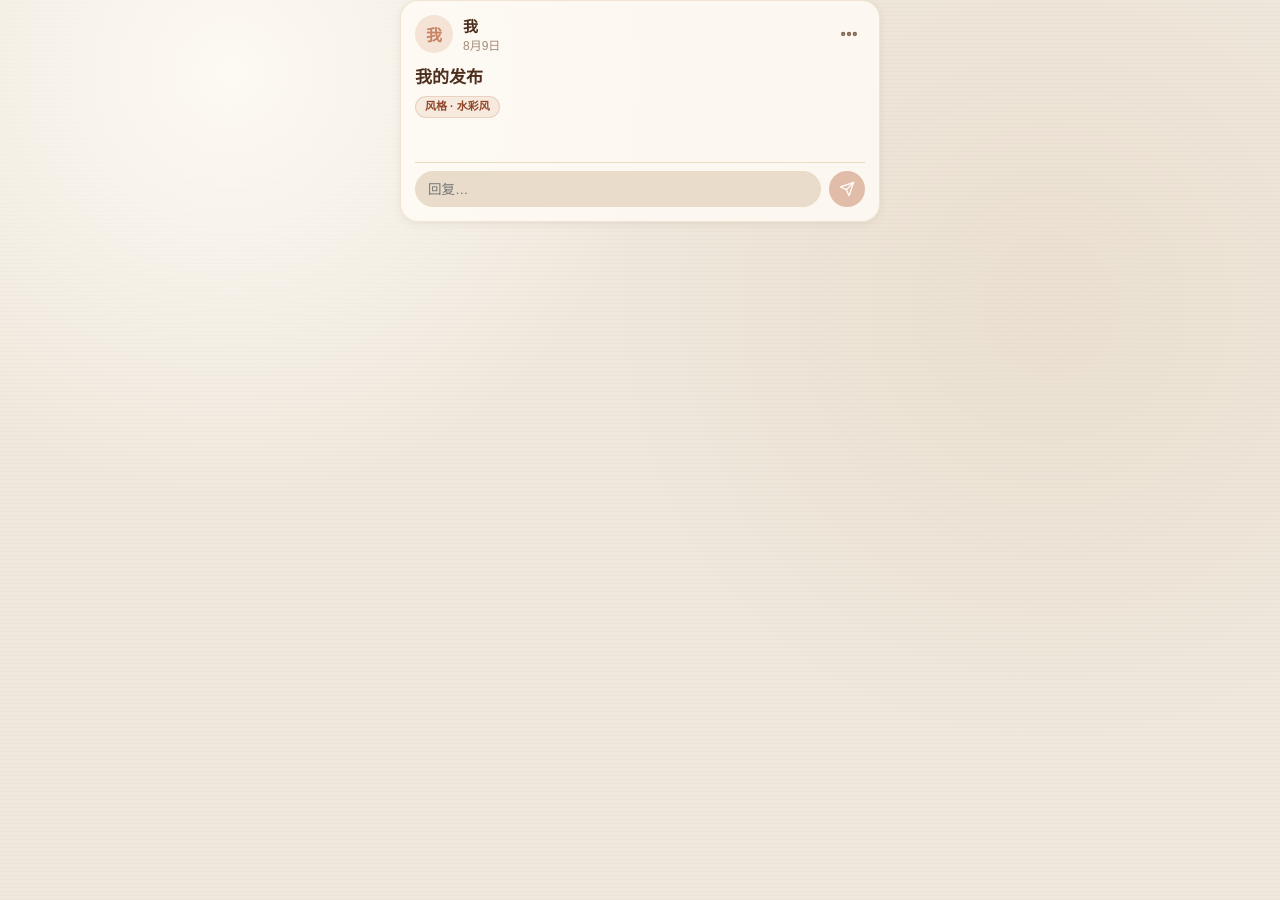
Test: PostCard owner perspective › the overflow menu offers visibility and unpublish with confirmation
This screenshot has width=1280, height=900.
Later steps or results of the test are not shown.
Click the button named "更多操作" at (849, 34), box top-left (833, 18), bottom-right (865, 50)
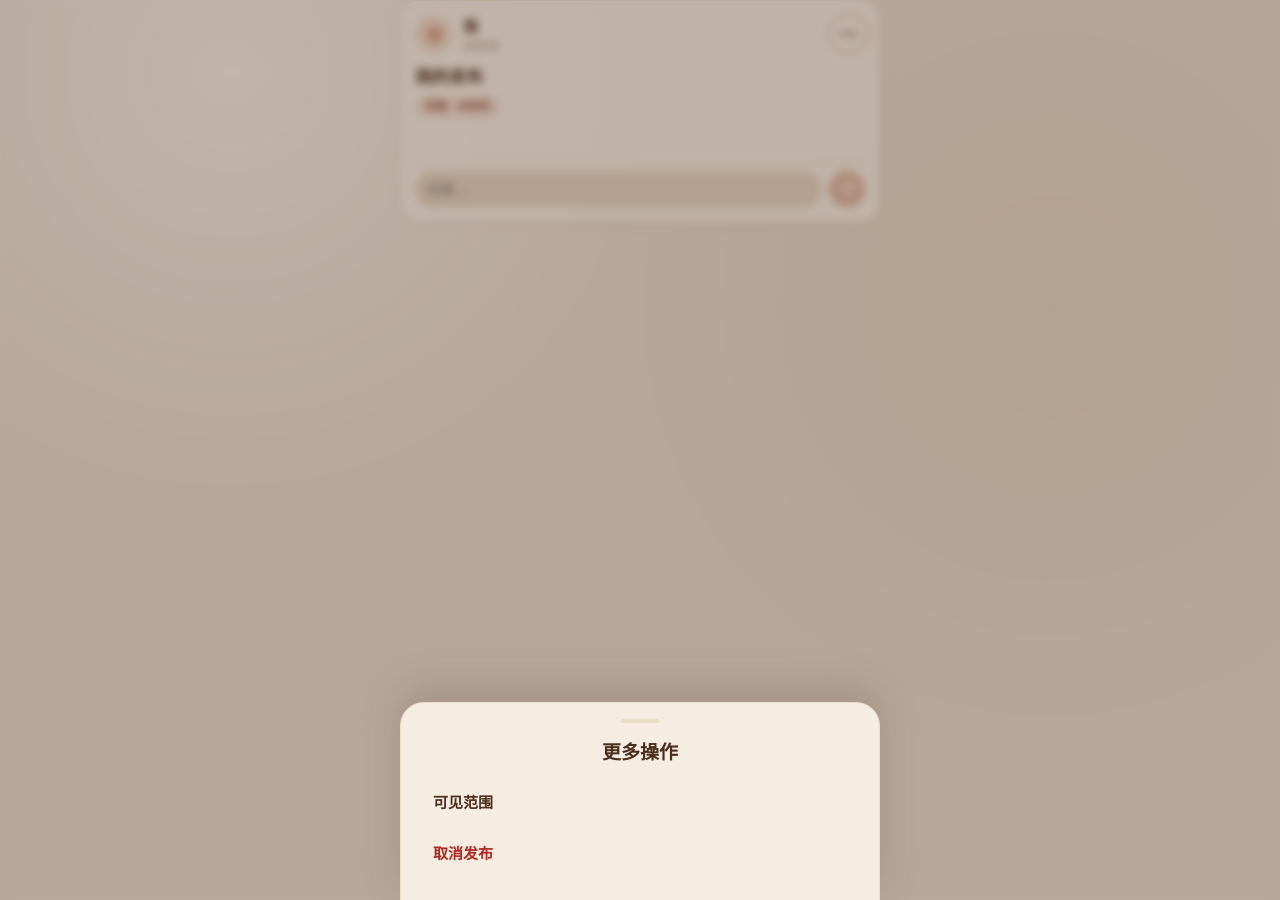
Check: the button "可见范围" is shown, box top-left (419, 778), bottom-right (861, 825)
Click the button "取消发布" at (463, 854), box top-left (419, 829), bottom-right (861, 876)
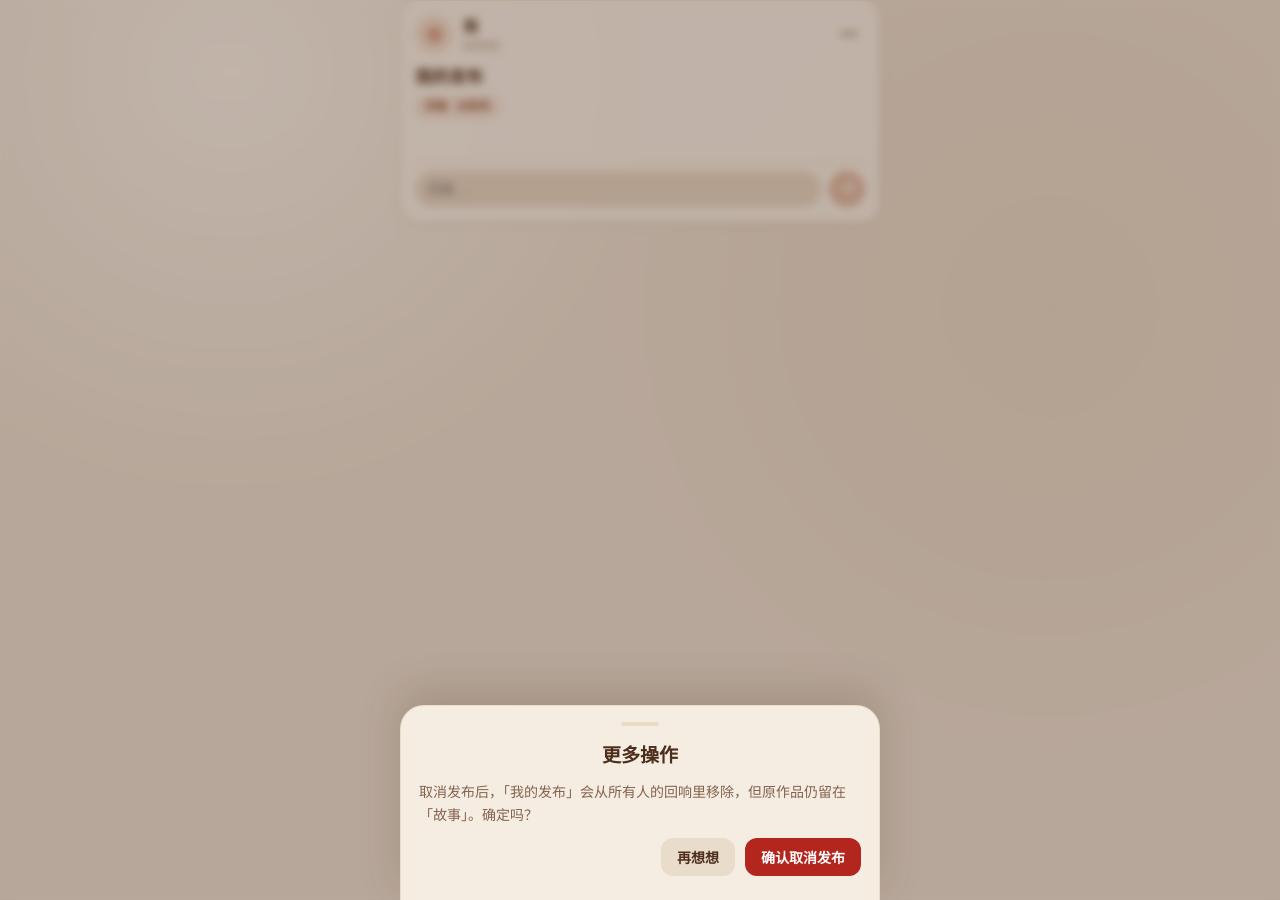
Check: the text "取消发布后，「我的发布」会从所有人的回响里移除，但原作品仍留在「故事」。确定吗？" is shown, box top-left (419, 781), bottom-right (861, 826)
